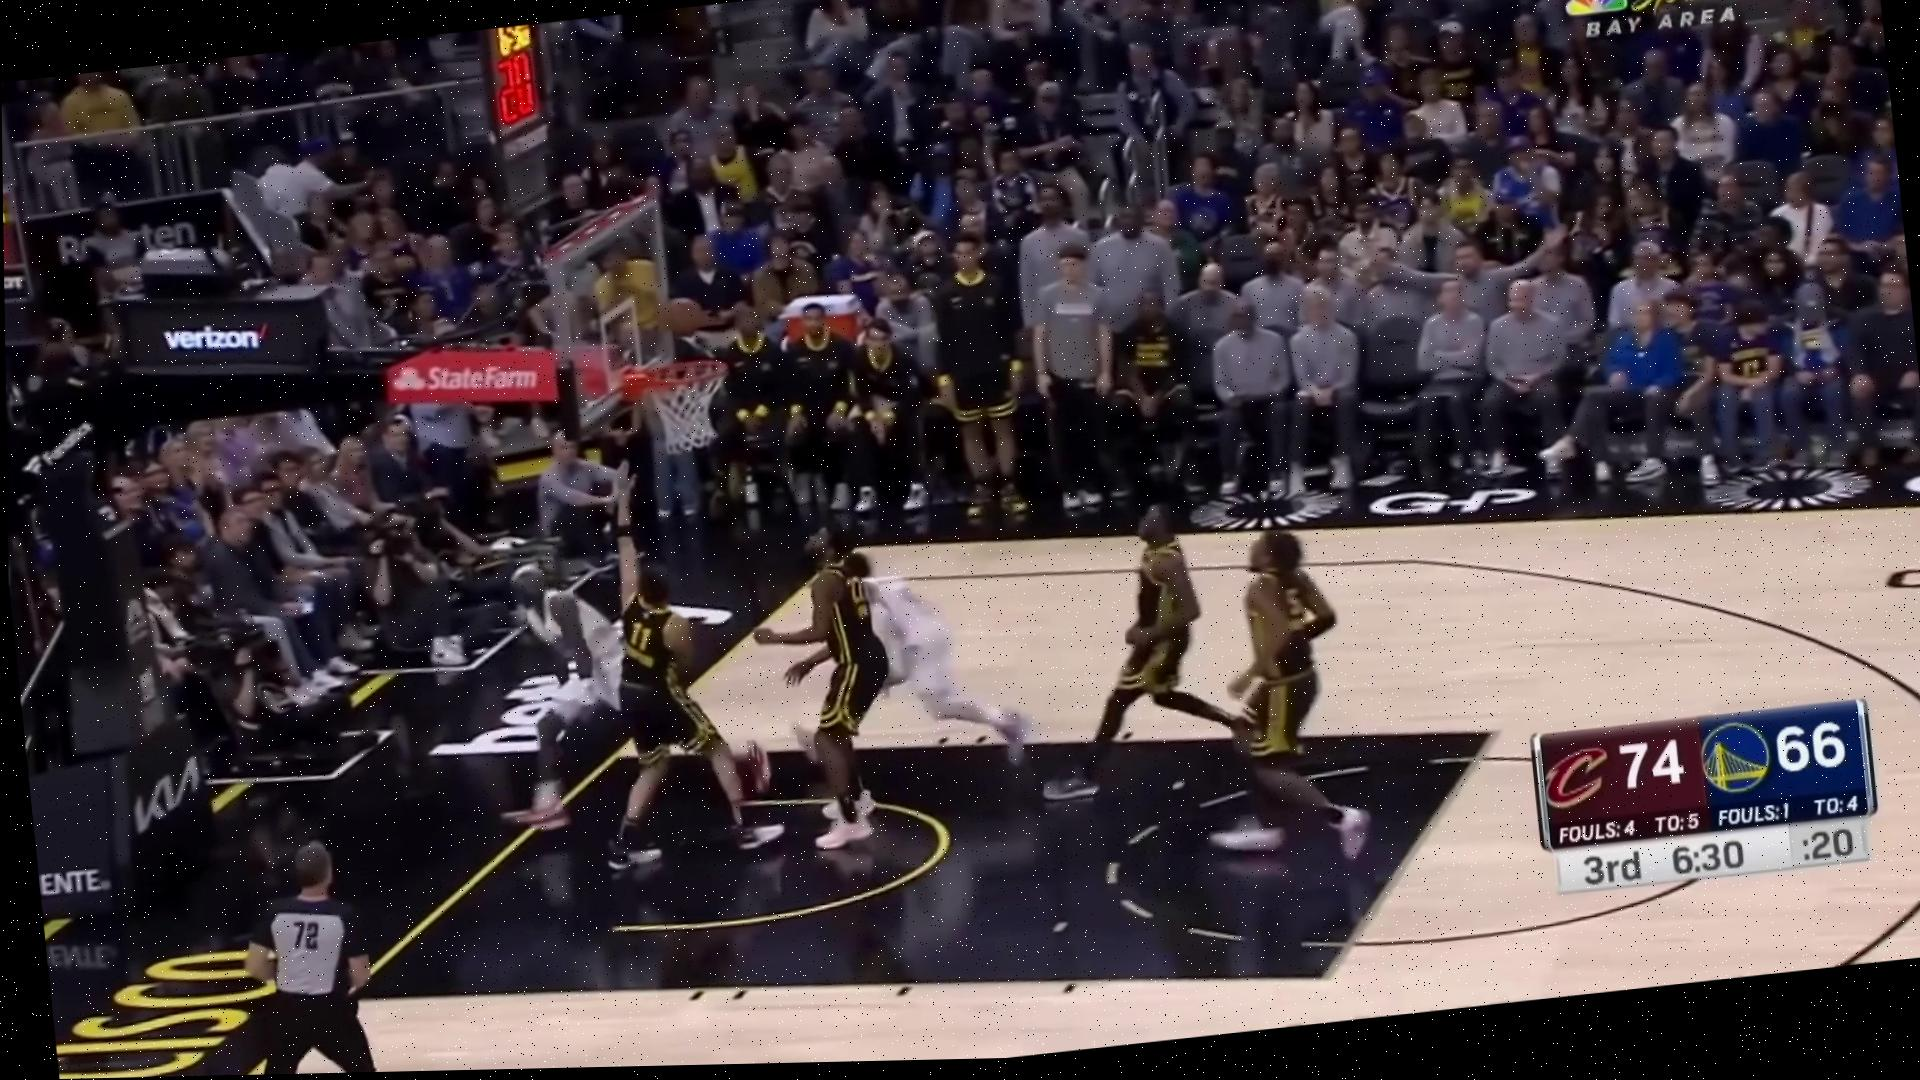foul: (487, 487, 811, 865)
